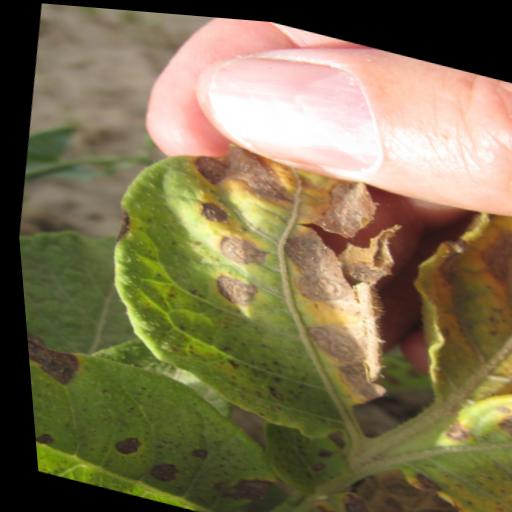Early Blight: (76, 114, 425, 457), (355, 173, 512, 512)
